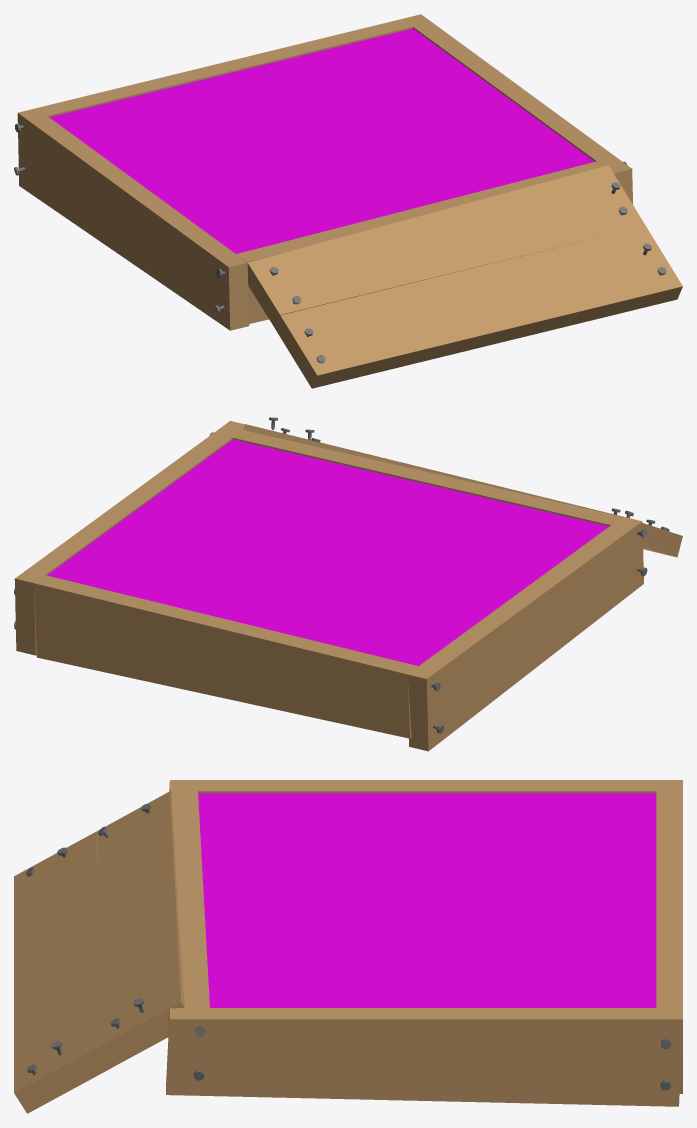
File: Plank_platform.fbx
3 views of the same model, one above another, from view 1: azimuth 30°, elevation 25°; view 2: azimuth 150°, elevation 25°; view 3: azimuth 270°, elevation 25° (orthographic). The views are drawn at different scales.
Parts seen in each view (by area): view 1: Plank_platform; view 2: Plank_platform; view 3: Plank_platform.
Boxes of the visible parts, x1=… form: Plank_platform: x1=14, y1=14, x2=682, y2=388; Plank_platform: x1=14, y1=417, x2=682, y2=751; Plank_platform: x1=14, y1=780, x2=682, y2=1113.
Bounding box in the file's own units: 642 × 131 × 729.
